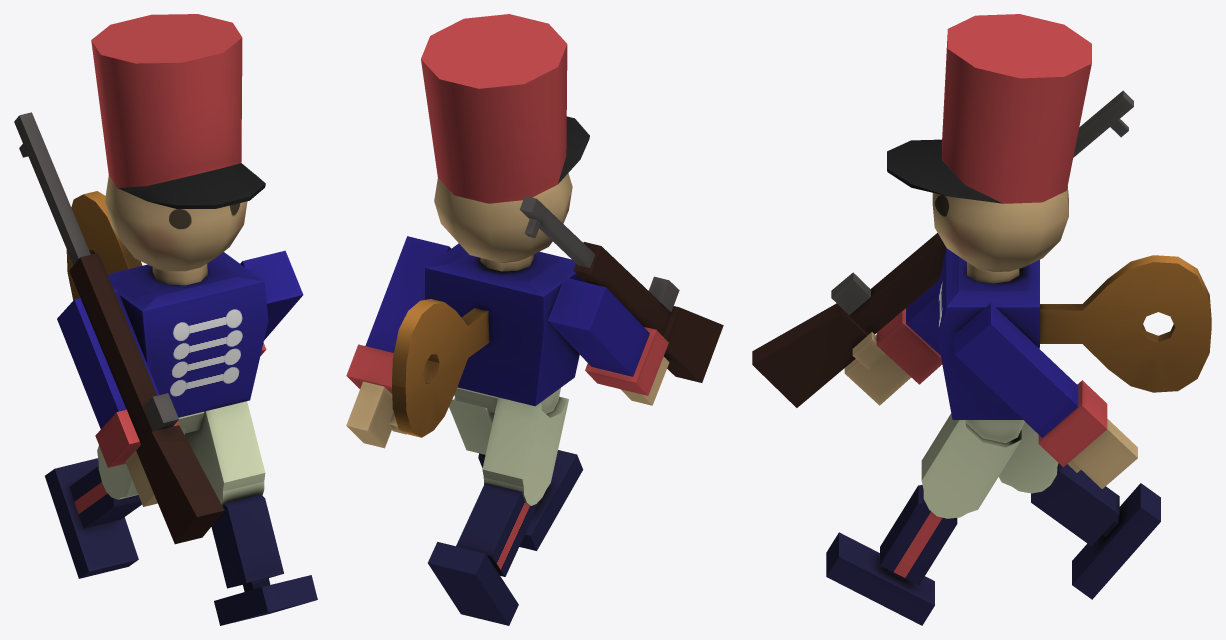
The model's file is toysoldier.fbx.
The picture shows the model from 3 angles, left to right: view 1: azimuth 30°, elevation 25°; view 2: azimuth 150°, elevation 25°; view 3: azimuth 270°, elevation 25°; orthographic projection. The views are drawn at different scales.
Visible parts, largest first — view 1: toysoldier; view 2: toysoldier; view 3: toysoldier.
Boxes of the visible parts, x1,y1,x2,y2 form: toysoldier: [14, 14, 317, 625]; toysoldier: [346, 14, 723, 625]; toysoldier: [752, 14, 1211, 625].
Bounding box in the file's own units: 1.89 × 4.64 × 3.44.
Materials: 1 (1 with a texture image).
